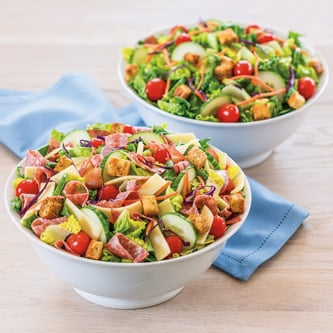curry: (129, 54, 171, 100)
sushi: (5, 118, 253, 306), (117, 15, 331, 170)
